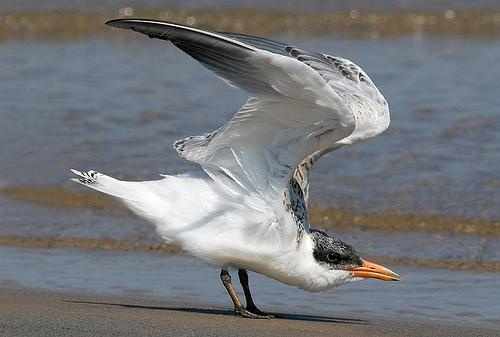bird: (76, 17, 408, 309)
